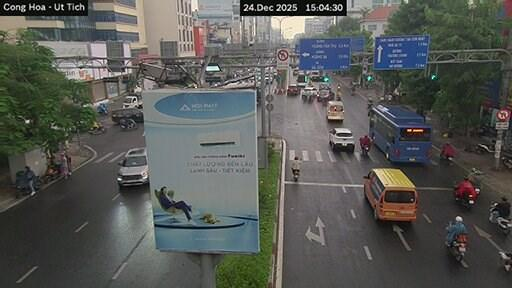motorbike: (489, 203, 511, 234), (454, 182, 475, 209), (447, 234, 466, 261), (15, 171, 30, 197), (41, 164, 59, 183), (475, 140, 495, 154), (499, 251, 511, 271), (88, 123, 106, 134), (119, 122, 138, 130), (440, 152, 453, 163), (502, 155, 512, 169), (97, 103, 107, 114), (302, 93, 313, 102), (292, 169, 299, 181), (361, 145, 369, 155), (367, 100, 373, 109), (351, 87, 355, 95)
